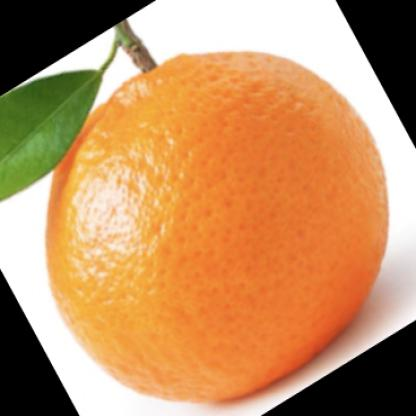orange: (53, 33, 391, 400)
